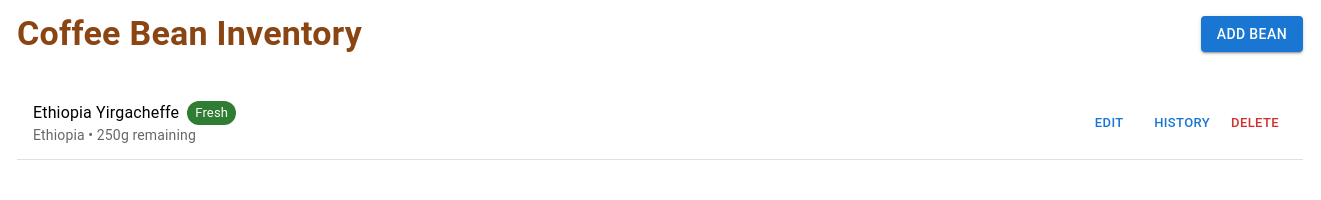
Test case: BeanManager › soft-deletes a bean
Expected: the text "Ethiopia Yirgacheffe" is shown, [33,101,179,125]
Click the button "Delete": (1255, 123) [1223,108,1287,138]
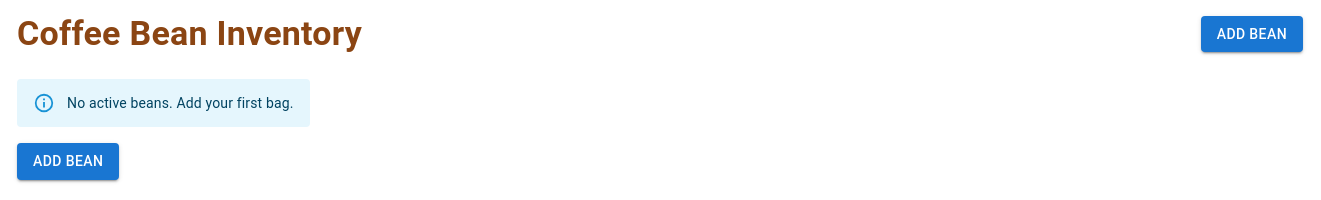
Expected: the text "No active beans. Add your first bag." is shown, [67,95,294,111]
